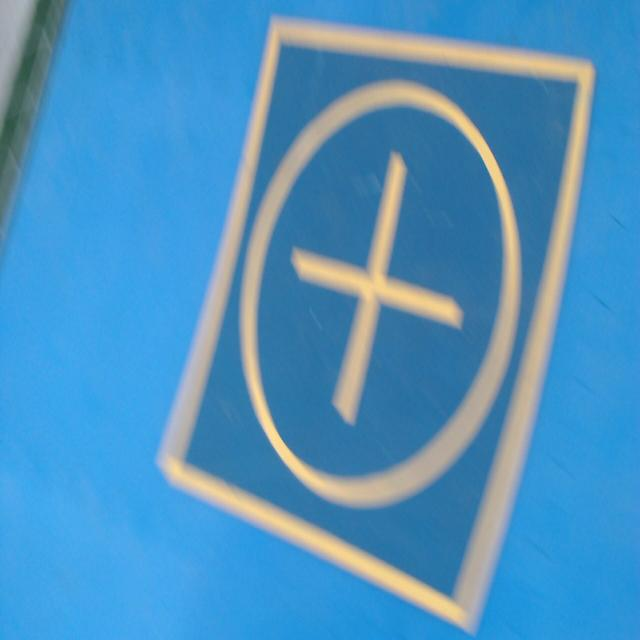base_pouso: (155, 17, 599, 633)
